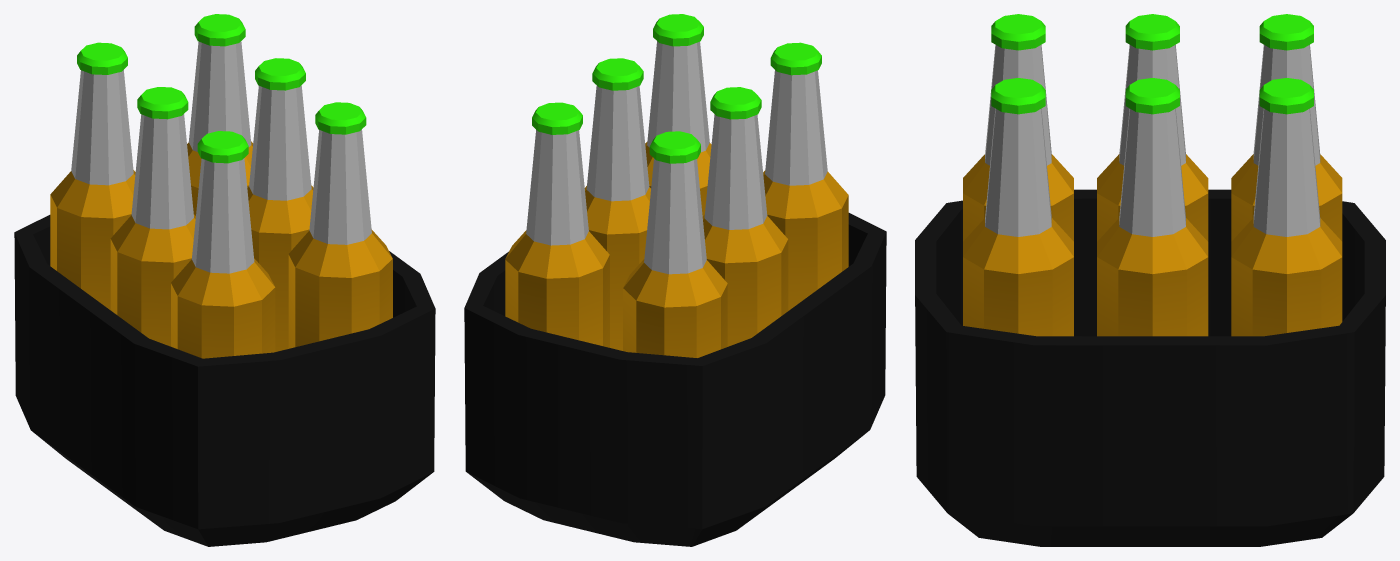
Rendered from Krata Piwa.fbx.
The picture shows the model from 3 angles, left to right: view 1: azimuth 30°, elevation 25°; view 2: azimuth 150°, elevation 25°; view 3: azimuth 270°, elevation 25°; orthographic projection. The views are drawn at different scales.
Parts seen in each view (by area): view 1: Krata Piwa; view 2: Krata Piwa; view 3: Krata Piwa.
Part boxes in pixels (x1,y1,x2,y2): Krata Piwa: [14, 14, 435, 546]; Krata Piwa: [464, 14, 886, 546]; Krata Piwa: [915, 14, 1385, 546].
Bounding box in the file's own units: 35.63 × 45.92 × 45.59.
